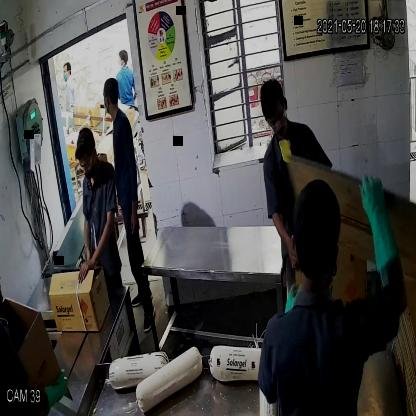goggles: (263, 106, 291, 129), (75, 152, 95, 174)
